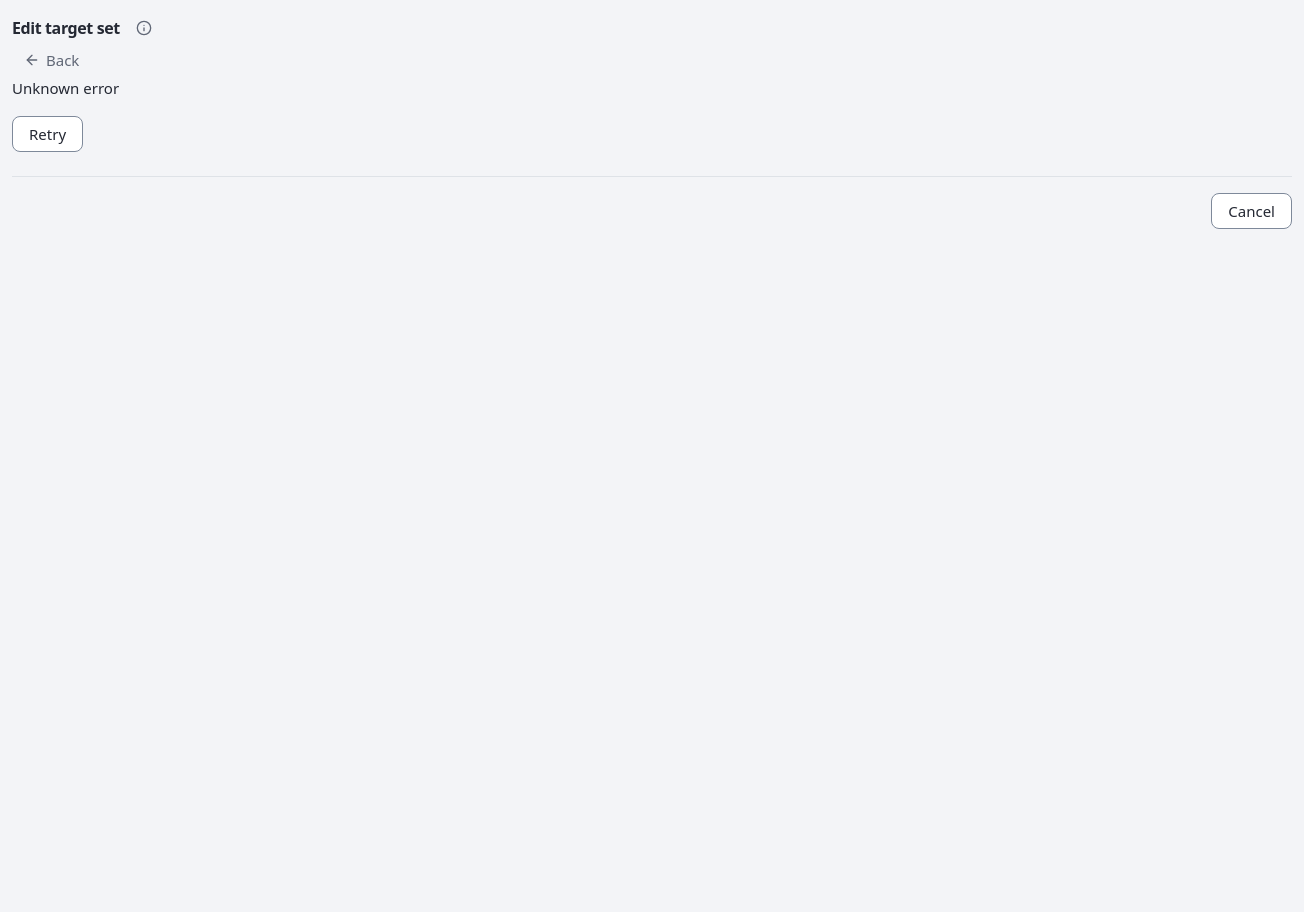
Scenario: target route state shell › shows error with retry in the feature shell and recovers to loaded
Expected: the message "Unknown error Retry" is shown, [12,78,119,152]
Expected: the number of headings is 1, [12,16,120,40]
Click the button "Retry".
click(48, 134)  # box [12,116,83,152]
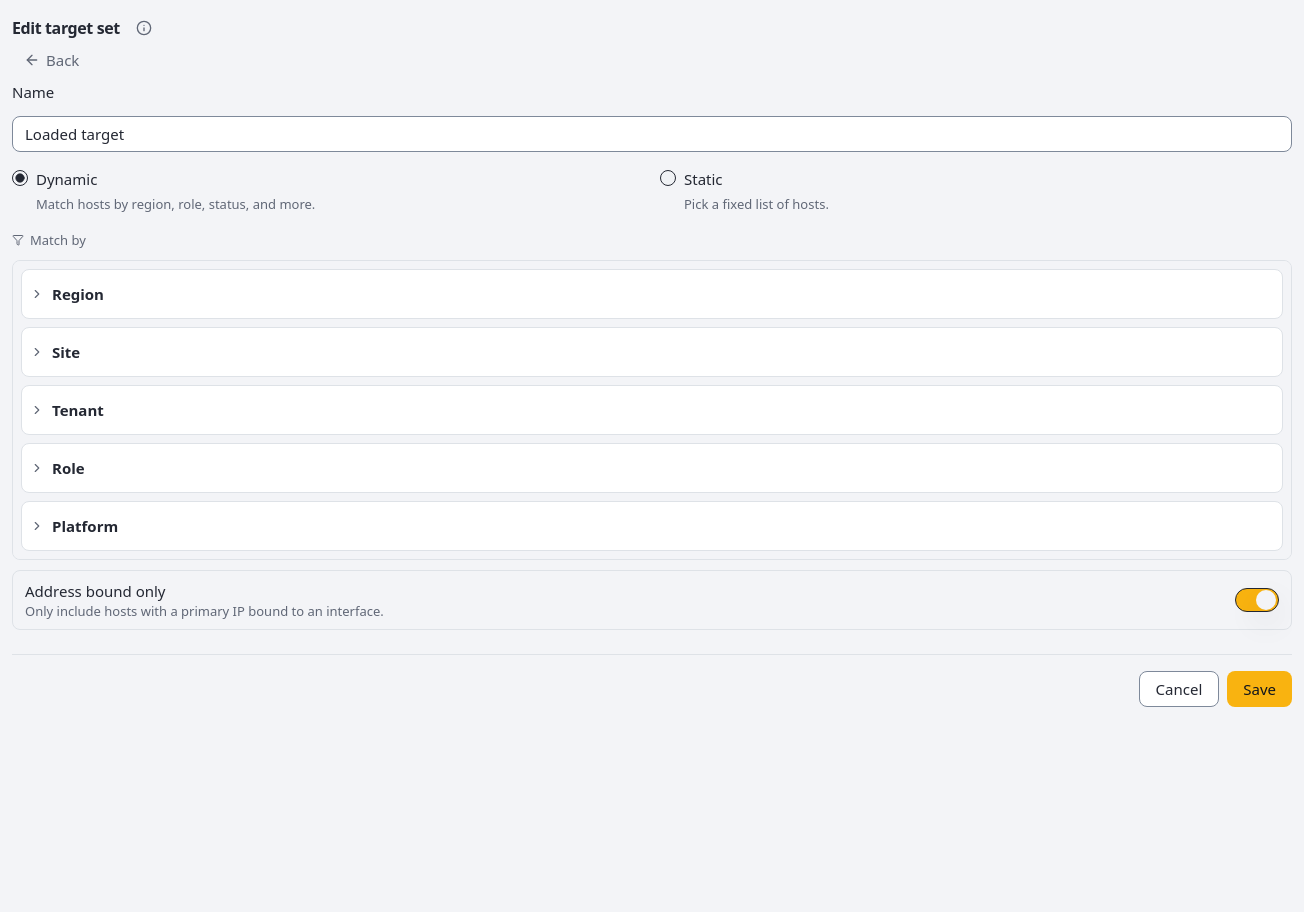
Expected: the number of headings is 1, [12,16,120,40]
Result: the message "Unknown error Retry" is gone
